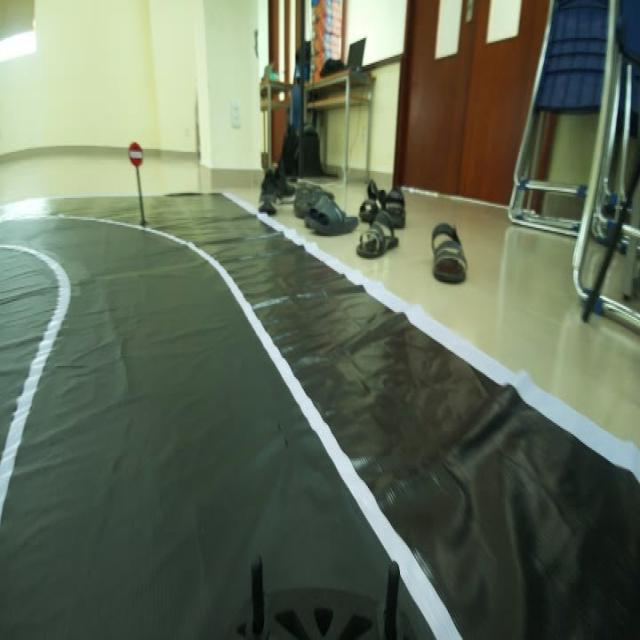no_entry: (124, 140, 145, 170)
